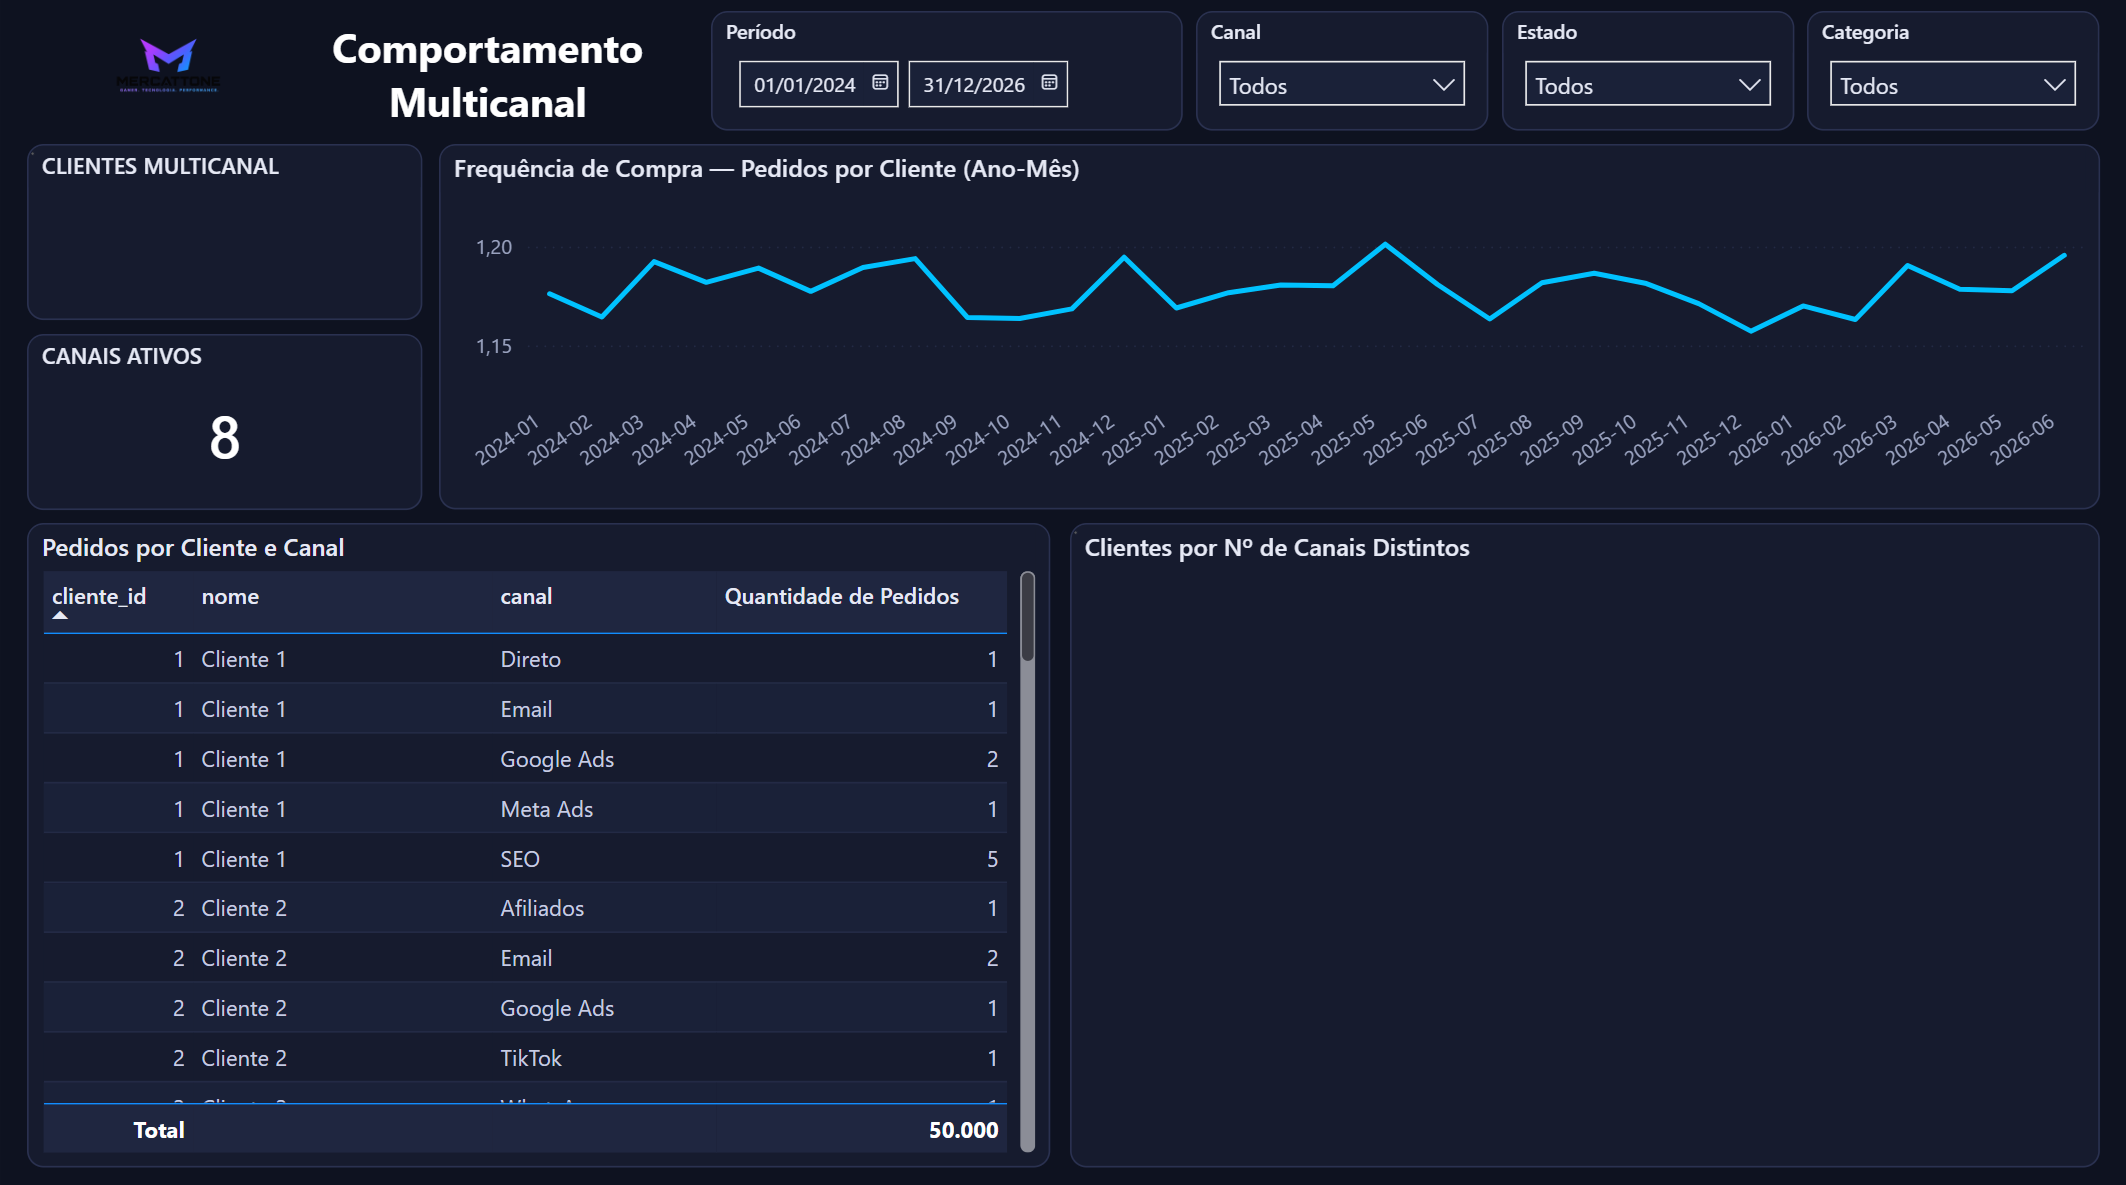

This screenshot's page, from the dashboard's own definition file:
{"tool":"powerbi","page":{"name":"Comportamento Multicanal","canvas":[1280,720],"ordinal":3},"visuals":[{"type":"textbox","box":[159.7,8.2,268.1,105.5],"z":0},{"type":"slicer","title":"Período","fields":{"Values":["dCalendario.Date"]},"box":[428,8,284,72],"z":1000},{"type":"slicer","title":"Canal","fields":{"Values":["public campanhas.canal"]},"box":[720,8,176,72],"z":2000},{"type":"slicer","title":"Estado","fields":{"Values":["public clientes.estado"]},"box":[904,8,176,72],"z":3000},{"type":"slicer","title":"Categoria","fields":{"Values":["public pedidos.categoria"]},"box":[1088,8,176,72],"z":4000},{"type":"card","title":"CLIENTES MULTICANAL","fields":{"Values":["_Medidas.Clientes Multicanal"]},"box":[16,88,238,106],"z":5000},{"type":"card","title":"CANAIS ATIVOS","fields":{"Values":["_Medidas.Canais Distintos"]},"box":[16,202,238,106],"z":6000},{"type":"lineChart","title":"Frequência de Compra — Pedidos por Cliente (Ano-Mês)","fields":{"Category":["dCalendario.Ano-Mês"],"Y":["_Medidas.Pedidos por Cliente"]},"box":[264,88,1000,220],"z":7000},{"type":"tableEx","title":"Pedidos por Cliente e Canal","fields":{"Values":["public clientes.cliente_id","public clientes.nome","public campanhas.canal","_Medidas.Quantidade de Pedidos"]},"box":[16,316,616,388],"z":8000},{"type":"tableEx","title":"Clientes por Nº de Canais Distintos","fields":{"Values":["public clientes.cliente_id","public clientes.nome","_Medidas.Canais Distintos","_Medidas.Quantidade de Pedidos","_Medidas.Receita Total"]},"box":[644,316,620,388],"z":9000},{"type":"image","box":[15.9,8.2,172,71.9],"z":10000}]}

Visuals, with their boxes in screenshot pixels (x1, y1, x2, y2), scaled from the page's 1280x720 canvas onto the 2126x1185 screenshot:
textbox: x1=265, y1=13, x2=711, y2=187
"Período" slicer: x1=711, y1=13, x2=1183, y2=132
"Canal" slicer: x1=1196, y1=13, x2=1488, y2=132
"Estado" slicer: x1=1501, y1=13, x2=1794, y2=132
"Categoria" slicer: x1=1807, y1=13, x2=2099, y2=132
"CLIENTES MULTICANAL" card: x1=27, y1=145, x2=422, y2=319
"CANAIS ATIVOS" card: x1=27, y1=332, x2=422, y2=507
"Frequência de Compra — Pedidos por Cliente (Ano-Mês)" lineChart: x1=438, y1=145, x2=2099, y2=507
"Pedidos por Cliente e Canal" tableEx: x1=27, y1=520, x2=1050, y2=1159
"Clientes por Nº de Canais Distintos" tableEx: x1=1070, y1=520, x2=2099, y2=1159
image: x1=26, y1=13, x2=312, y2=132
